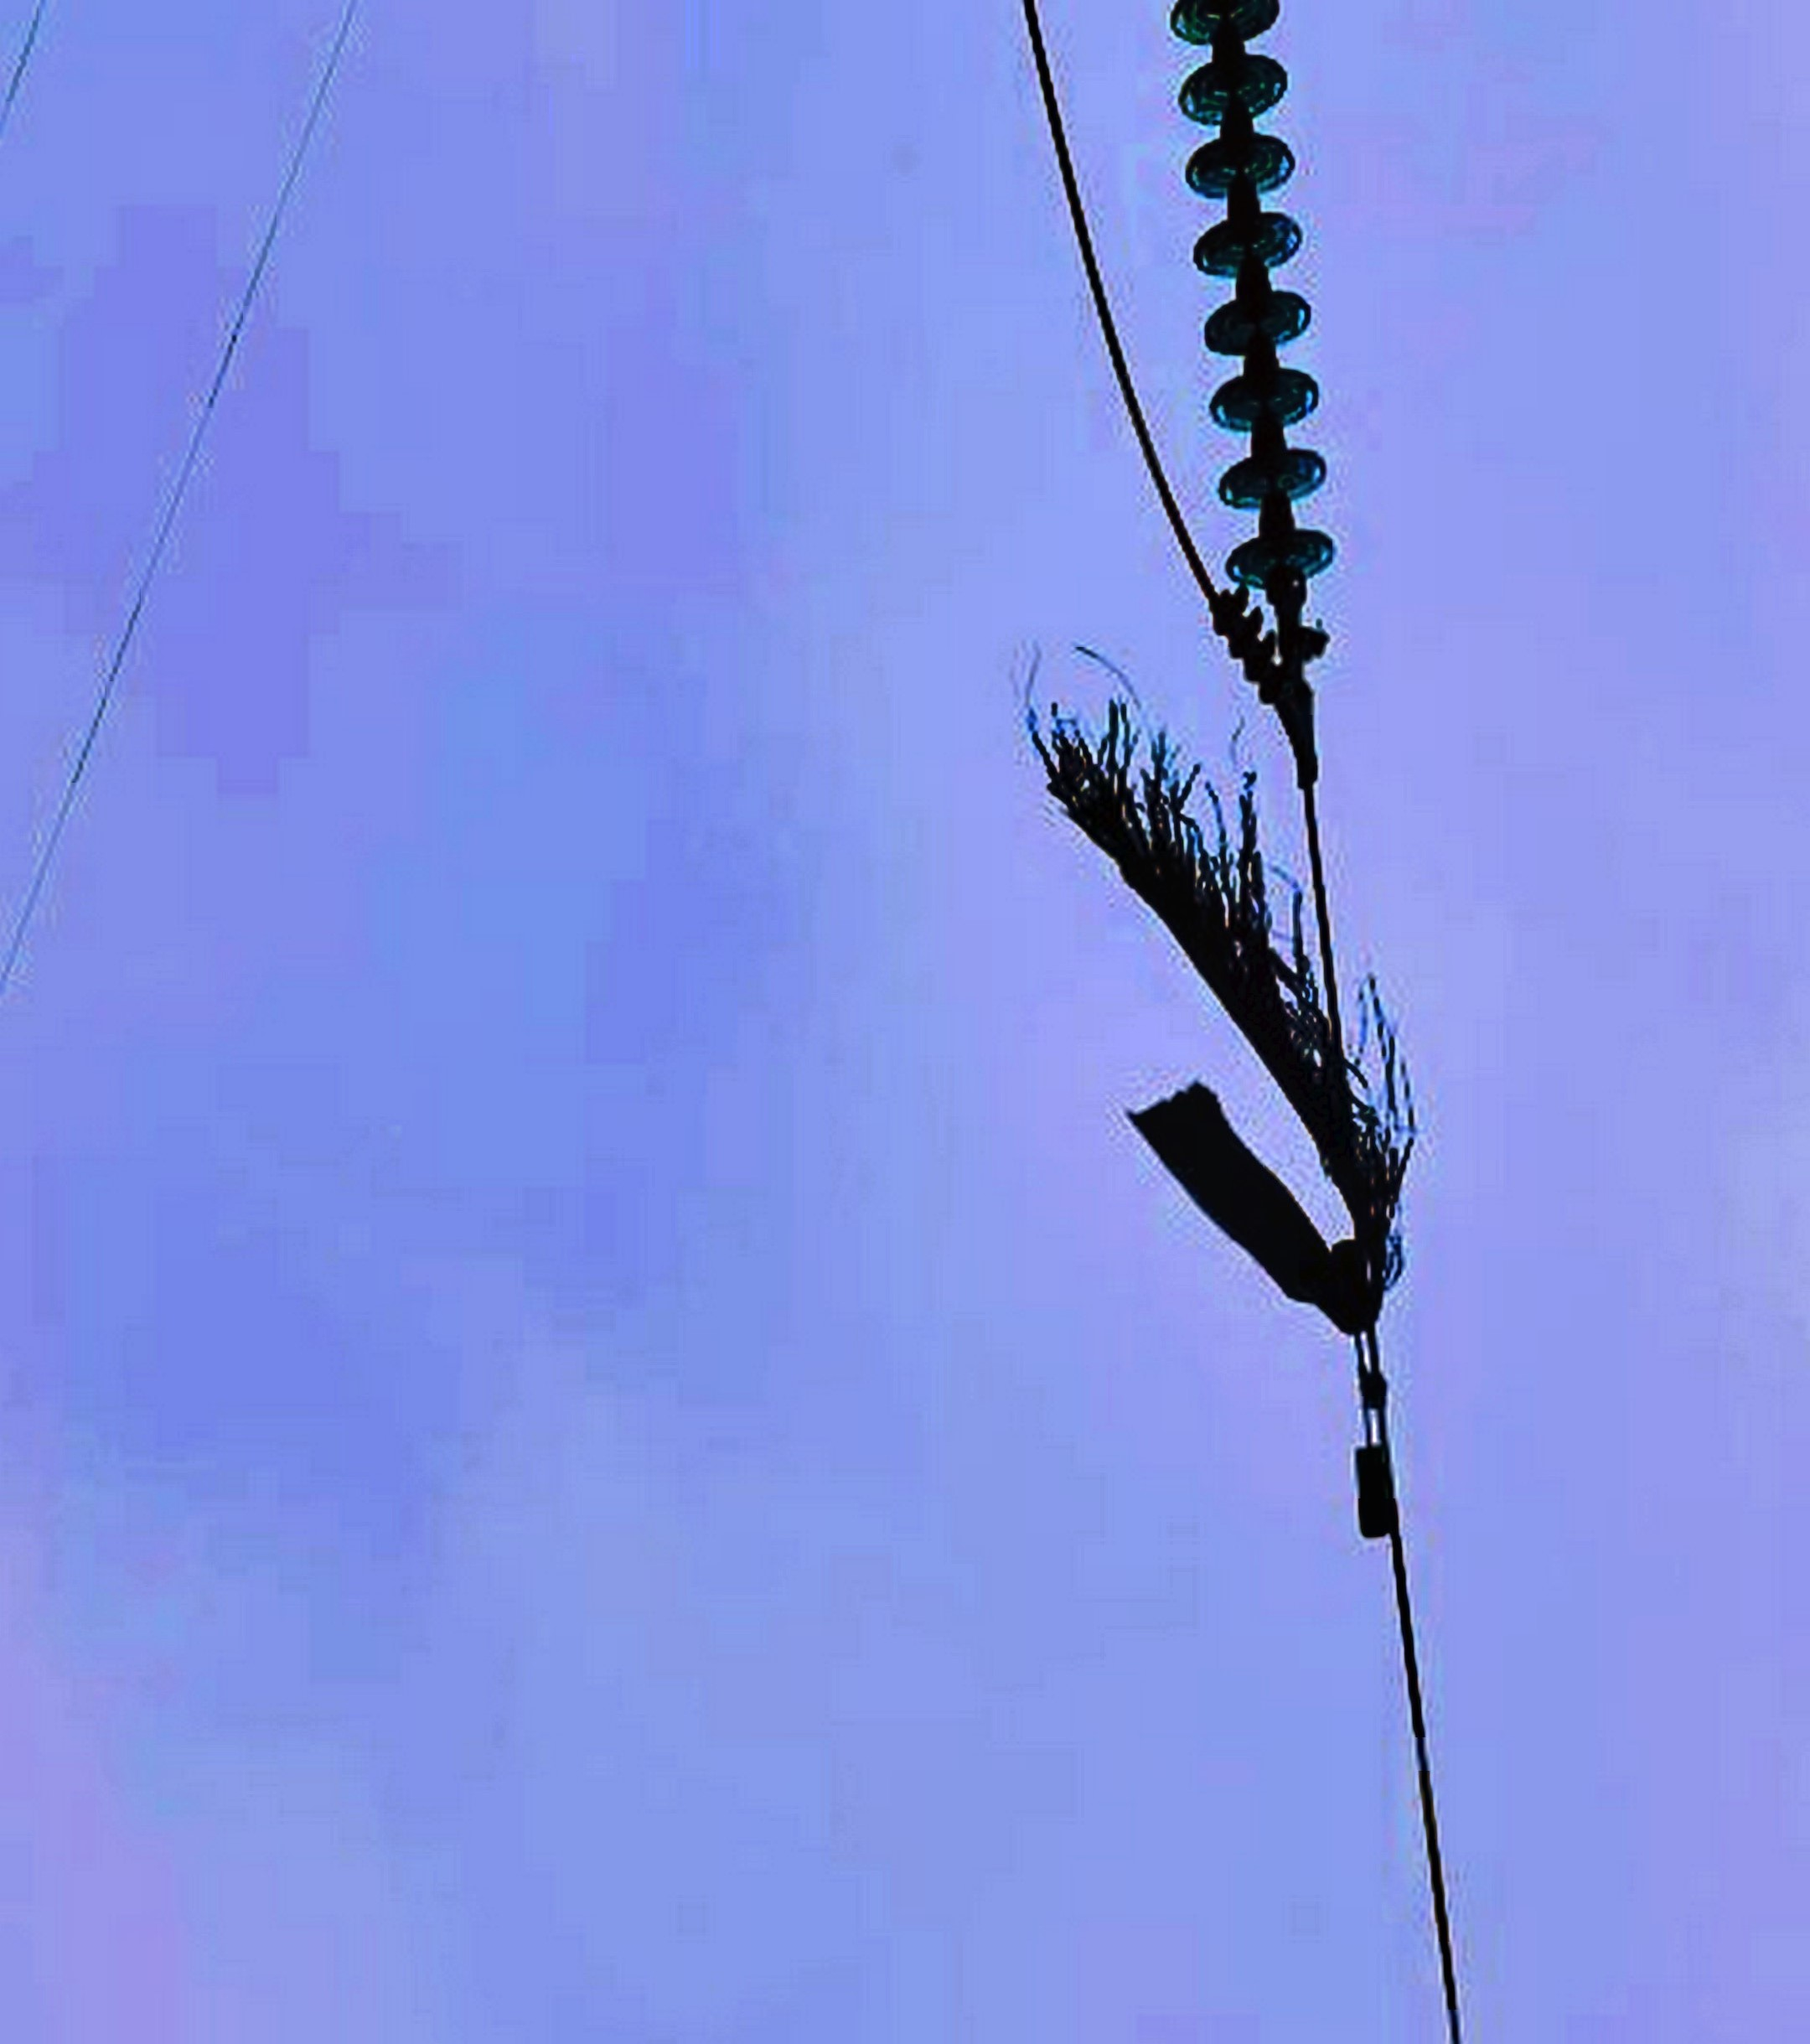wire foreign body: (989, 702, 1468, 1328)
